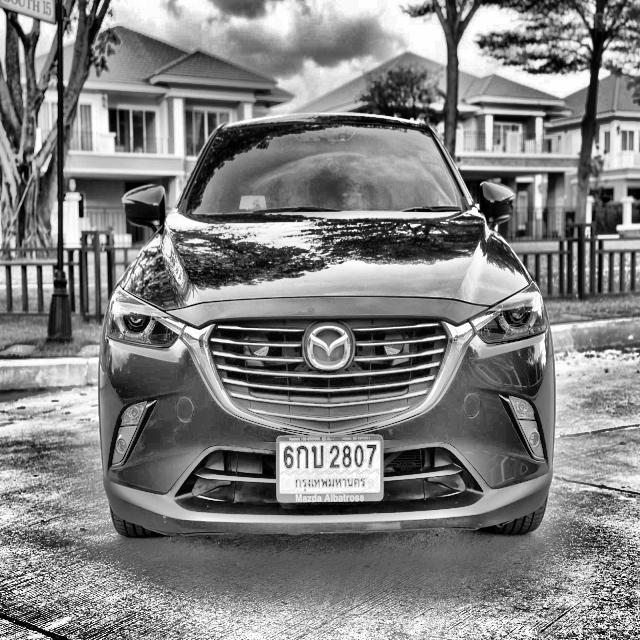license-plate: (273, 429, 385, 507)
